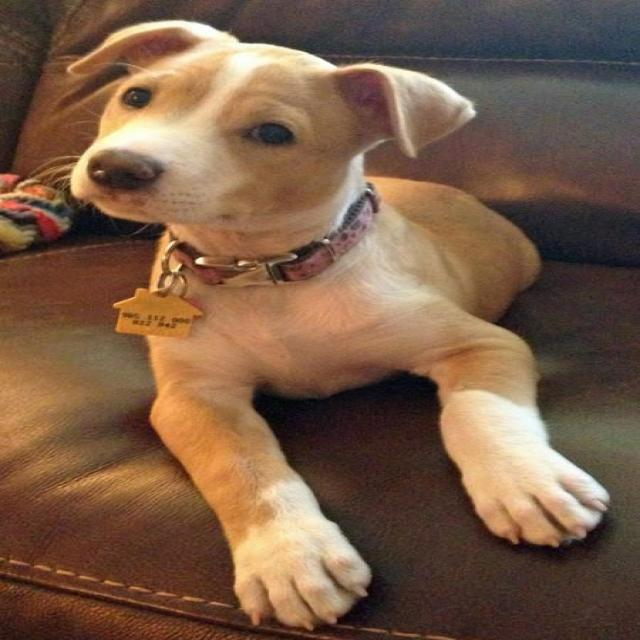dog: (36, 4, 474, 324)
